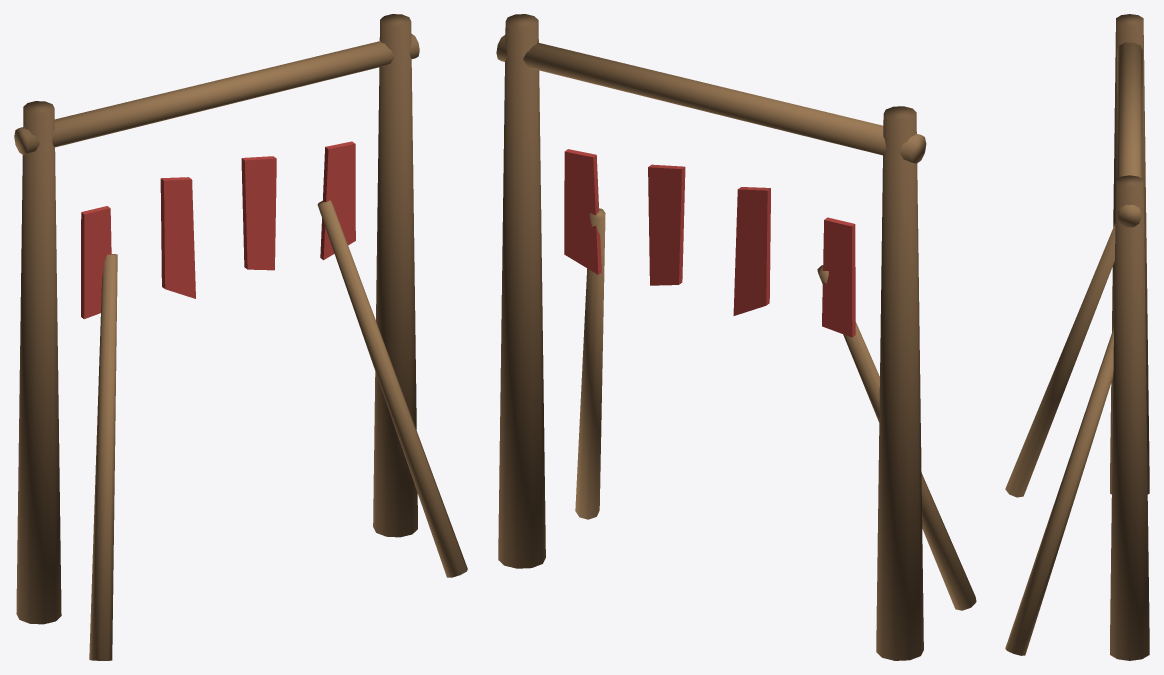
Rendered from drying_rack.glb.
The picture shows the model from 3 angles, left to right: view 1: azimuth 30°, elevation 25°; view 2: azimuth 150°, elevation 25°; view 3: azimuth 270°, elevation 25°; orthographic projection. The views are drawn at different scales.
Visible parts, largest first — view 1: rack_post_-0.5, rack_post_0.5, rack_crossbar, rack_brace_-0.5, rack_brace_0.5, meat_strip_1, meat_strip_2, meat_strip_3, meat_strip_0; view 2: rack_post_0.5, rack_post_-0.5, rack_crossbar, rack_brace_0.5, meat_strip_1, meat_strip_2, rack_brace_-0.5, meat_strip_3, meat_strip_0; view 3: rack_post_0.5, rack_brace_0.5, rack_brace_-0.5, rack_crossbar, rack_post_-0.5.
Boxes of the visible parts, bbox=[...] form: rack_post_-0.5: bbox=[16, 101, 61, 624]; rack_post_0.5: bbox=[373, 14, 417, 537]; rack_crossbar: bbox=[14, 33, 419, 155]; rack_brace_-0.5: bbox=[89, 254, 117, 660]; rack_brace_0.5: bbox=[317, 200, 467, 577]; meat_strip_1: bbox=[160, 177, 195, 298]; meat_strip_2: bbox=[241, 156, 276, 270]; meat_strip_3: bbox=[320, 141, 355, 260]; meat_strip_0: bbox=[81, 206, 111, 319]; rack_post_0.5: bbox=[498, 14, 545, 568]; rack_post_-0.5: bbox=[876, 106, 923, 660]; rack_crossbar: bbox=[496, 35, 926, 163]; rack_brace_0.5: bbox=[575, 208, 605, 519]; meat_strip_1: bbox=[733, 187, 770, 315]; meat_strip_2: bbox=[648, 164, 685, 285]; rack_brace_-0.5: bbox=[817, 265, 976, 610]; meat_strip_3: bbox=[564, 149, 601, 274]; meat_strip_0: bbox=[822, 217, 855, 337]; rack_post_0.5: bbox=[1110, 175, 1149, 660]; rack_brace_0.5: bbox=[1005, 327, 1113, 655]; rack_brace_-0.5: bbox=[1005, 223, 1115, 497]; rack_crossbar: bbox=[1117, 42, 1142, 227]; rack_post_-0.5: bbox=[1110, 14, 1149, 494].
Bounding box in the file's own units: 1.11 × 1.37 × 0.3786.
